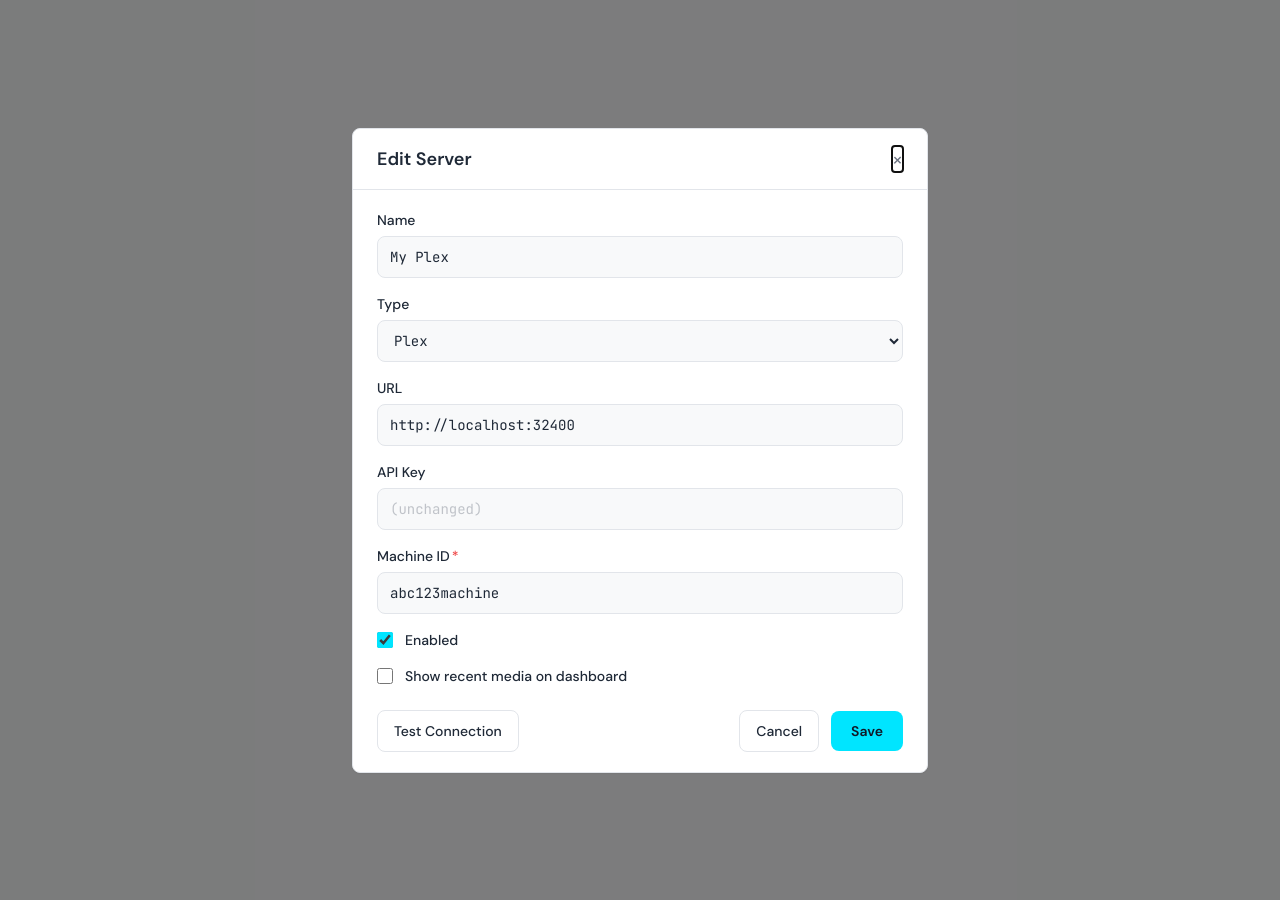
ServerForm › tests connection for existing server
Click the button "Test Connection": [448, 730] box [377,710,519,752]
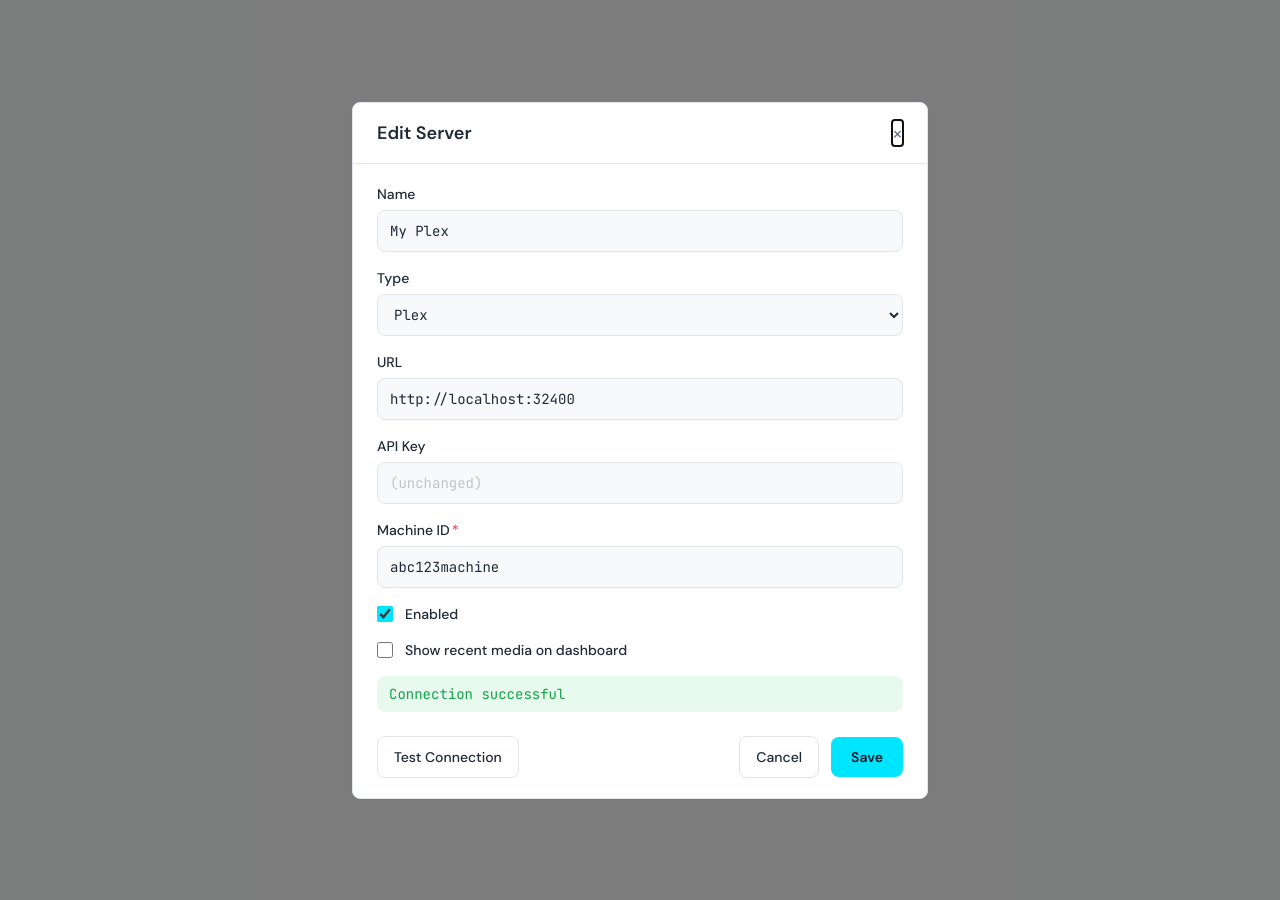
Expected: the text "Connection successful" is shown, [377,676,903,712]
